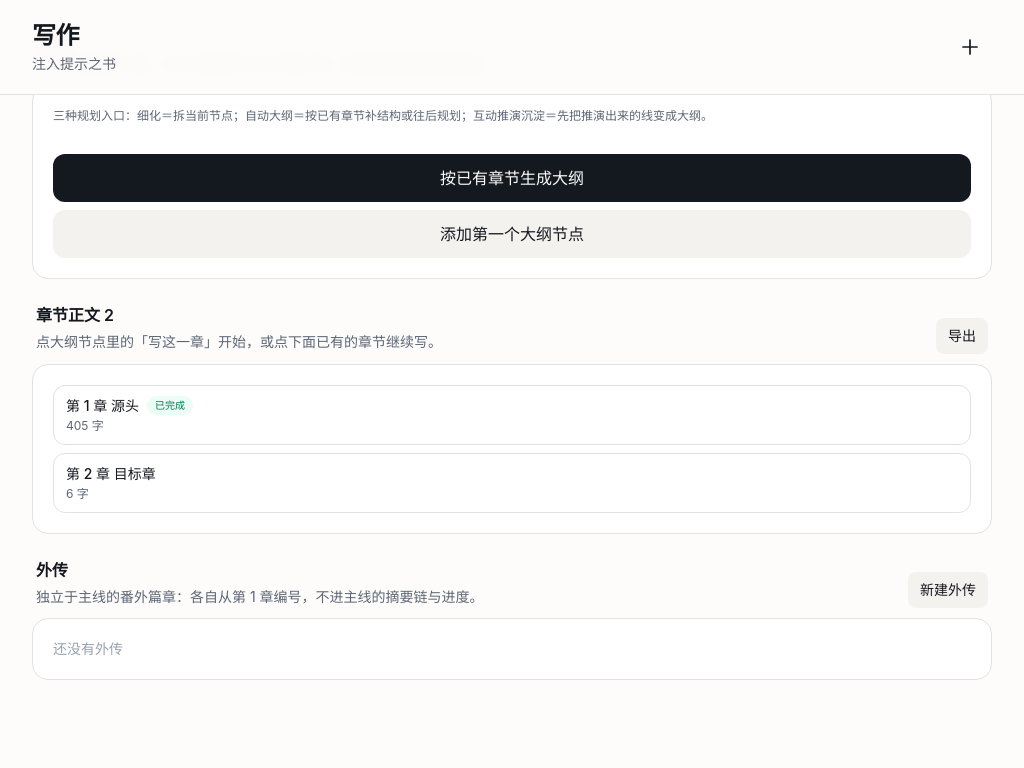
Test: M4.1 · 注入清单锚点说明显隐 › 有锚点时显示说明与「文风锚点 · 第 N 章开头」
(page scrolled)
Click the button with aria-label "继续写第 2 章": (133, 473) [53,452,971,512]
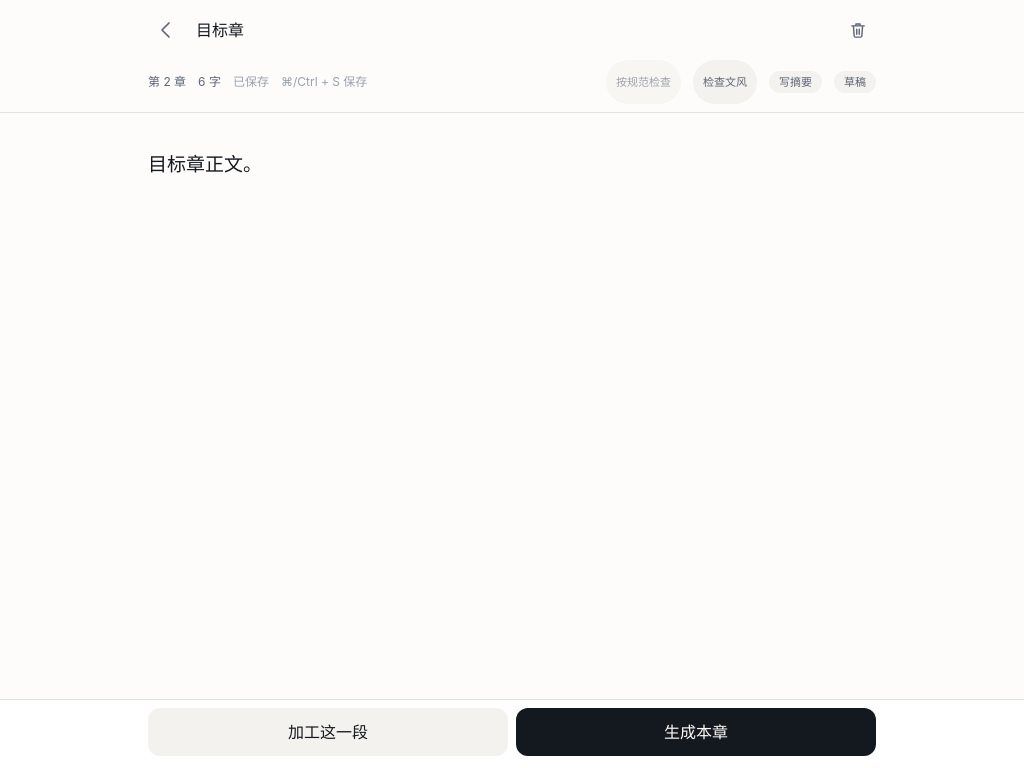
Now the text box named "章节正文" is shown, box [144,113,880,699]
Click the button "生成本章": (696, 732) [516,708,876,756]
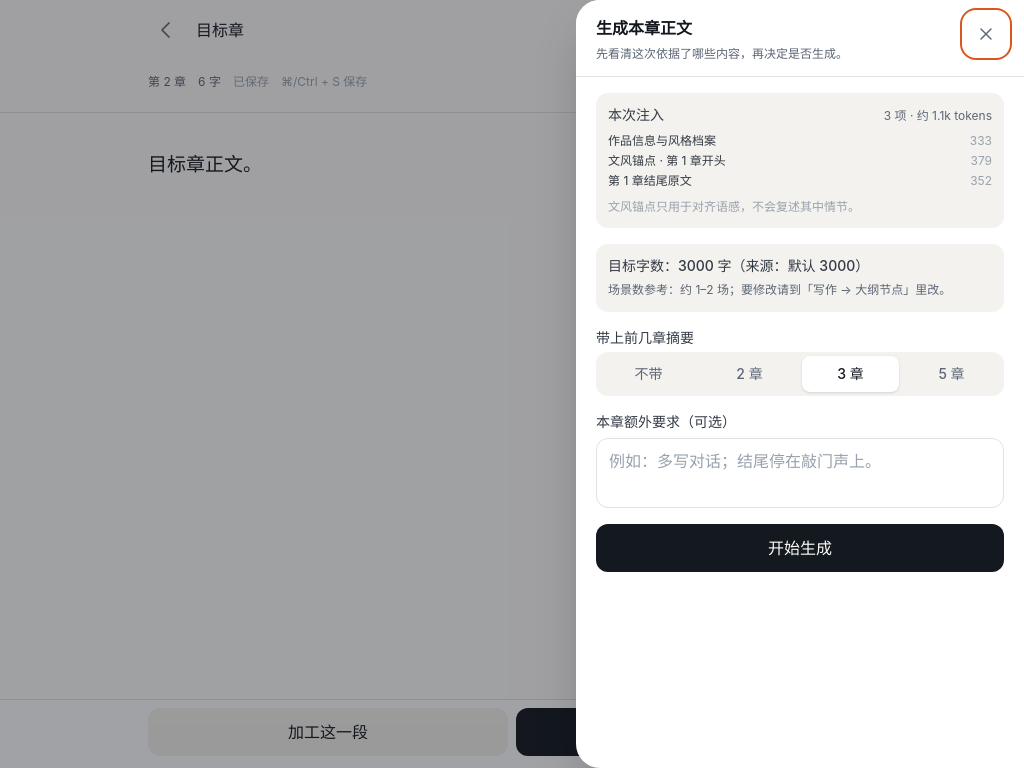
Now the text "本次注入" is shown, box [608,104,664,124]
Now the text "文风锚点 · 第 1 章开头" is shown, box [608,152,726,168]
Now the text "文风锚点只用于对齐语感，不会复述其中情节。" is shown, box [608,198,860,214]
